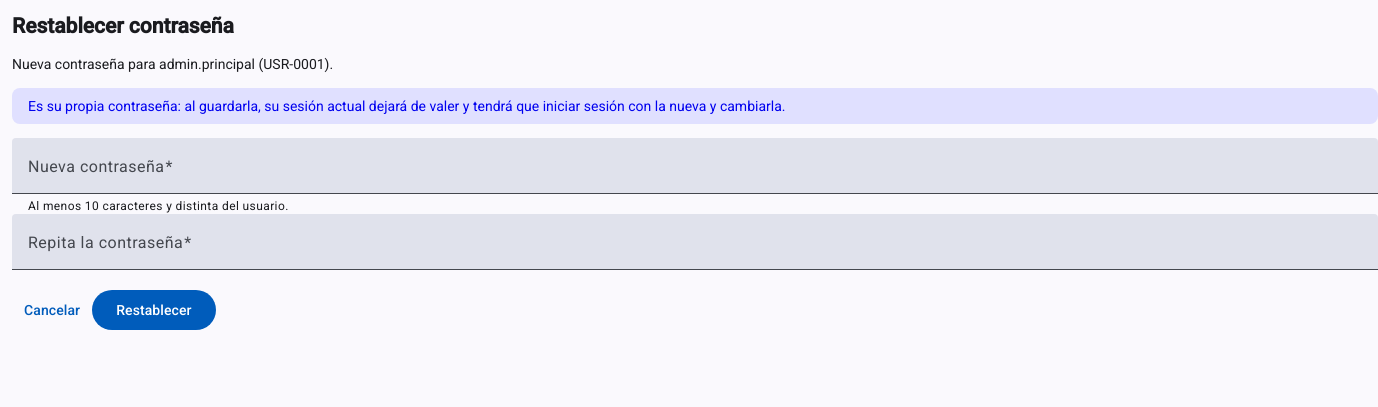
Test case: PasswordDialogoComponent › muestra dentro el error del servidor y no cierra la sesión
Type "nueva-clave-admin-1" into the password field labelled "Nueva contraseña" at (695, 174), box [28,162,1362,186]
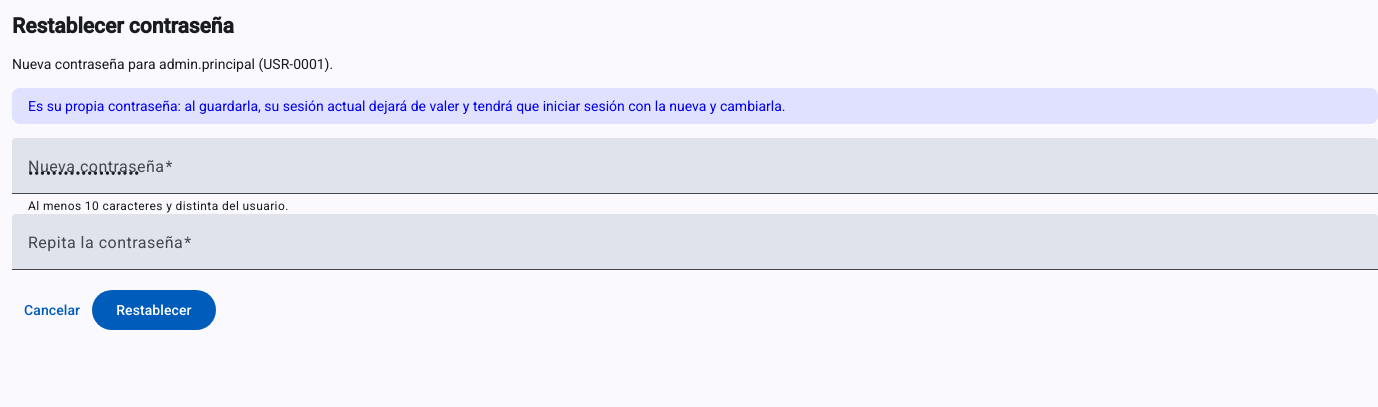
Type "nueva-clave-admin-1" into the password field labelled "Repita la contraseña" at (695, 250), box [28,238,1362,262]
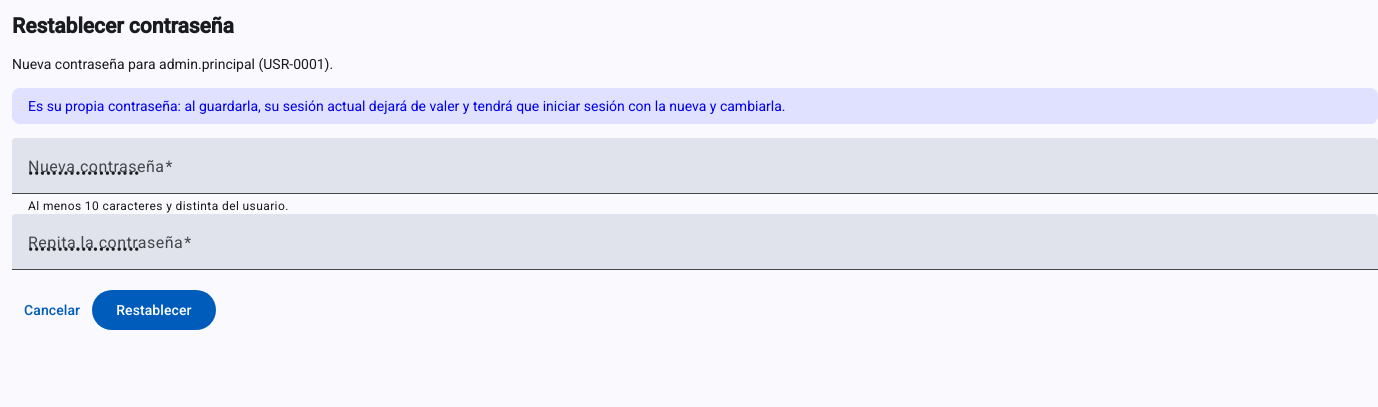
Click the submit button at (154, 310), box [92,290,216,330]
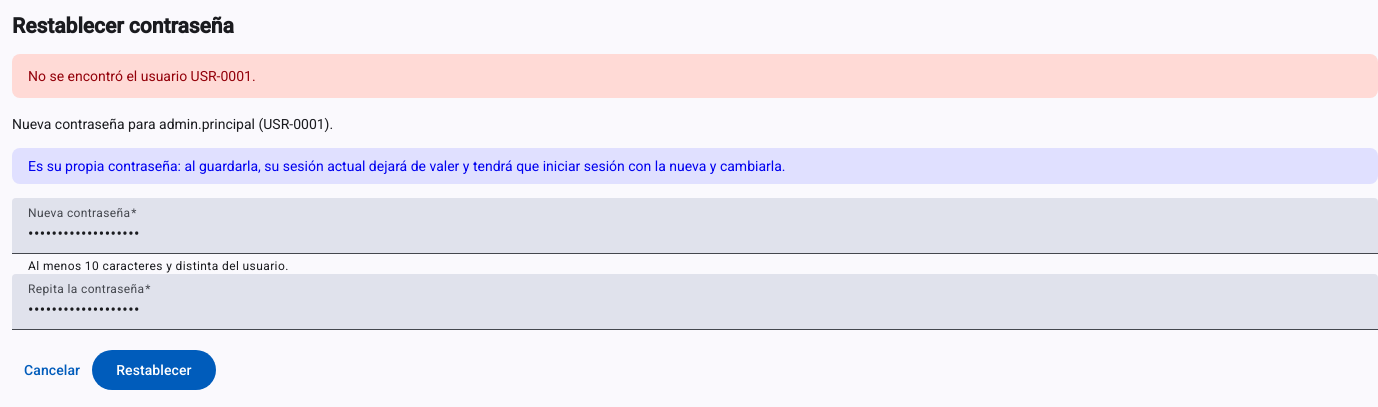
Expected: the text "No se encontró el usuario USR-0001." is shown, [28,68,256,84]
